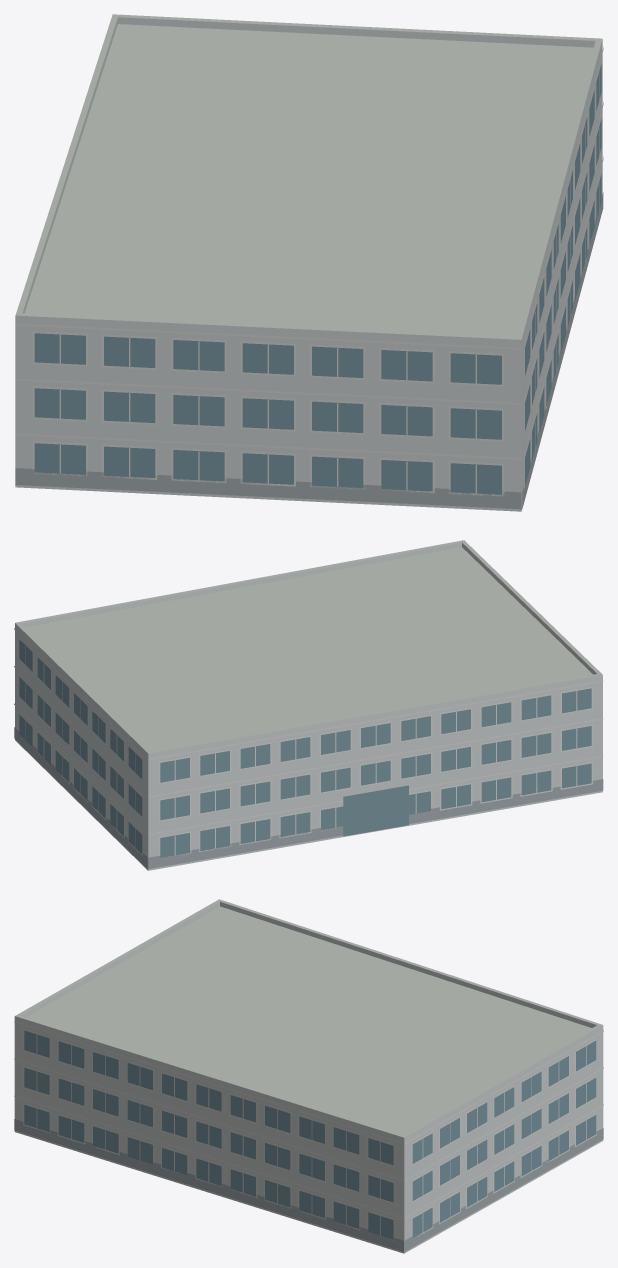
Rendered from public-3f915bd0-9b1e-44dd-adcd-f3031899eaad.glb.
3 views of the same model, one above another, from view 1: azimuth 30°, elevation 25°; view 2: azimuth 150°, elevation 25°; view 3: azimuth 270°, elevation 25° (orthographic). The views are drawn at different scales.
Parts seen in each view (by area): view 1: public-3f915bd0-9b1e-44dd-adcd-f3031899eaad; view 2: public-3f915bd0-9b1e-44dd-adcd-f3031899eaad; view 3: public-3f915bd0-9b1e-44dd-adcd-f3031899eaad.
Part boxes in pixels (x1,y1,x2,y2): public-3f915bd0-9b1e-44dd-adcd-f3031899eaad: (15, 14, 603, 511); public-3f915bd0-9b1e-44dd-adcd-f3031899eaad: (14, 540, 603, 870); public-3f915bd0-9b1e-44dd-adcd-f3031899eaad: (14, 899, 603, 1253).
Size of the model in its own units: 40.47 by 9.15 by 42.18.
